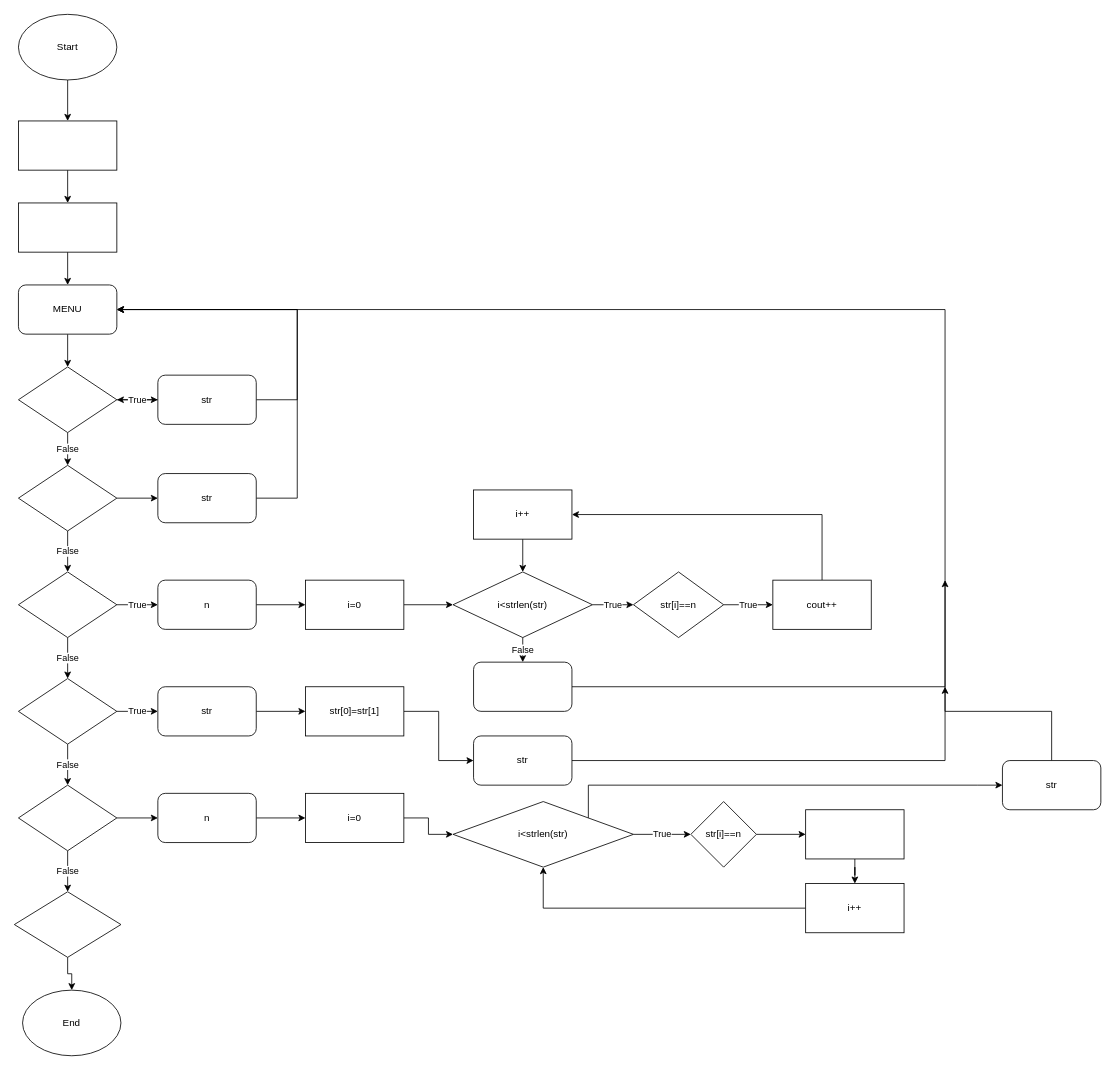
Some shapes in this 1115 by 1070 pixel diagram are drawn without their labels. The centre of each missing label's shape, as x and y in pixels:
"case 1" belongs at point 67,399.
"case 2" belongs at point 67,498.
"case 3" belongs at point 67,604.
"case 4" belongs at point 67,711.
"case 5" belongs at point 67,817.
"case 6" belongs at point 67,924.
"cout" belongs at point 522,686.
"cout=0,choice" belongs at point 67,145.
"n,str[100]" belongs at point 67,227.
"str[i]=''" belongs at point 854,834.
